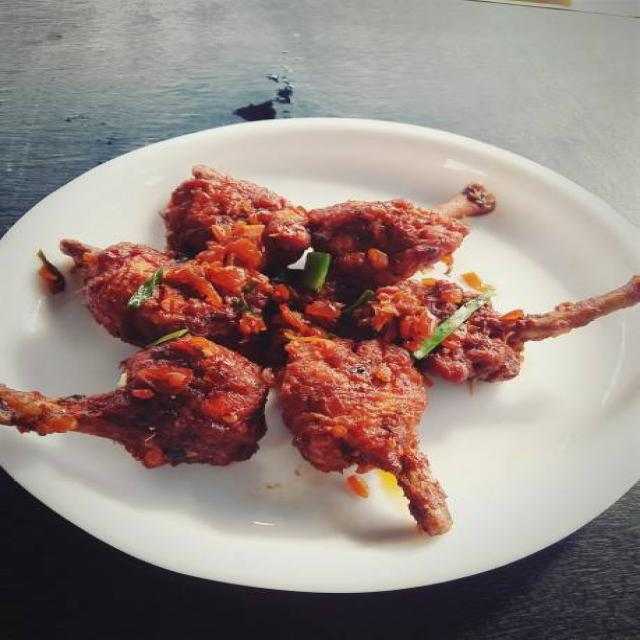Frango: (0, 160, 640, 538)
